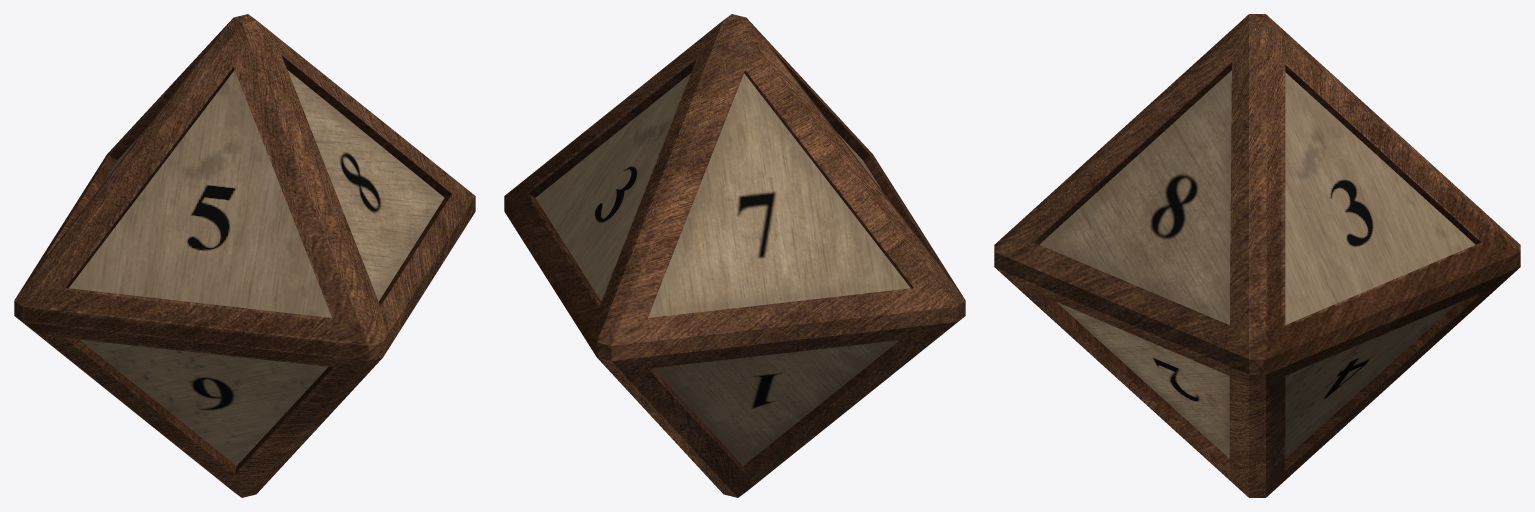
3 views of the same model, side by side, from view 1: azimuth 30°, elevation 25°; view 2: azimuth 150°, elevation 25°; view 3: azimuth 270°, elevation 25° (orthographic).
Visible parts, largest first — view 1: polySurface1_d8_0; view 2: polySurface1_d8_0; view 3: polySurface1_d8_0.
Boxes of the visible parts, x1,y1,x2,y2 form: polySurface1_d8_0: (14,14,475,497); polySurface1_d8_0: (504,14,965,497); polySurface1_d8_0: (994,14,1520,497).
Size of the model in its own units: 0.0354 by 0.0354 by 0.0354.
1 material, 1 textured.
